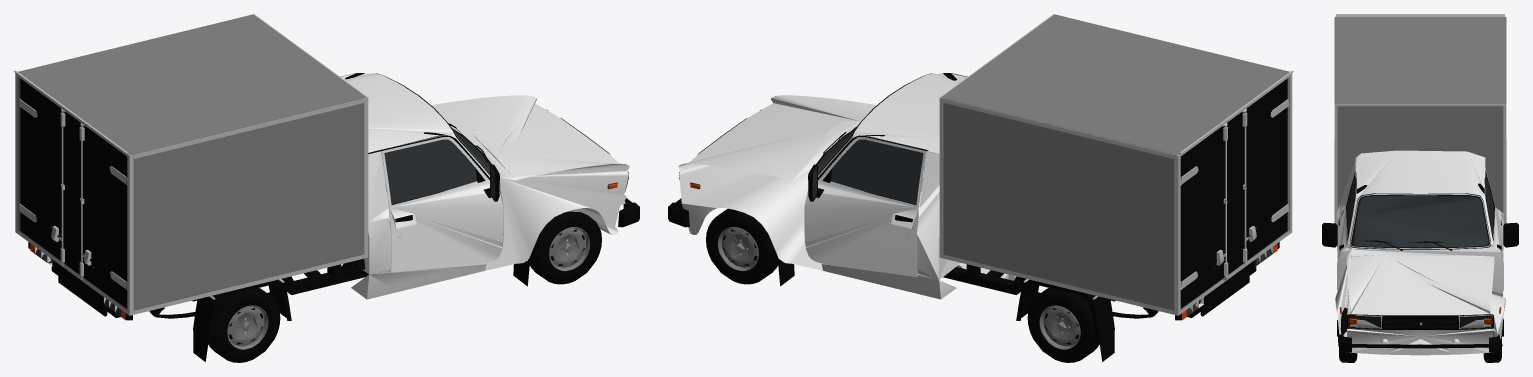
Rendered from vis2345.obj.
3 views of the same model, side by side, from view 1: azimuth 30°, elevation 25°; view 2: azimuth 150°, elevation 25°; view 3: azimuth 270°, elevation 25° (orthographic). The views are drawn at different scales.
Visible parts, largest first — view 1: vis2345_material, vis2345_2345paintPaint, vis2345_jigrubber, vis2345_jigchrome, vis2345_wheeltire, vis2345_winglassGlass, vis2345_wheelrim, vis2345_jigplastic, vis2345_jigmetalblack; view 2: vis2345_material, vis2345_2345paintPaint, vis2345_jigrubber, vis2345_jigchrome, vis2345_wheeltire, vis2345_winglassGlass, vis2345_wheelrim, vis2345_jigplastic, vis2345_jigmetalblack; view 3: vis2345_material, vis2345_2345paintPaint, vis2345_winglassGlass, vis2345_jigplastic, vis2345_jigchrome, vis2345_jigrubber, vis2345_hlplastic, vis2345_wheeltire, vis2345_hlchrome, vis2345_jigmetallic.
Part boxes in pixels (left/top/right/bottom): vis2345_material: left=17, top=14, right=366, bottom=313; vis2345_2345paintPaint: left=341, top=73, right=629, bottom=299; vis2345_jigrubber: left=20, top=73, right=529, bottom=361; vis2345_jigchrome: left=14, top=14, right=489, bottom=315; vis2345_wheeltire: left=208, top=211, right=601, bottom=362; vis2345_winglassGlass: left=384, top=131, right=490, bottom=204; vis2345_wheelrim: left=227, top=227, right=590, bottom=349; vis2345_jigplastic: left=193, top=118, right=639, bottom=340; vis2345_jigmetalblack: left=28, top=242, right=368, bottom=320; vis2345_material: left=941, top=14, right=1290, bottom=313; vis2345_2345paintPaint: left=678, top=73, right=966, bottom=299; vis2345_jigrubber: left=777, top=73, right=1287, bottom=361; vis2345_jigchrome: left=818, top=14, right=1293, bottom=315; vis2345_wheeltire: left=706, top=208, right=1099, bottom=362; vis2345_winglassGlass: left=817, top=131, right=923, bottom=204; vis2345_wheelrim: left=717, top=227, right=1080, bottom=349; vis2345_jigplastic: left=668, top=118, right=1114, bottom=340; vis2345_jigmetalblack: left=943, top=242, right=1279, bottom=320; vis2345_material: left=1334, top=17, right=1506, bottom=212; vis2345_2345paintPaint: left=1335, top=150, right=1505, bottom=355; vis2345_winglassGlass: left=1347, top=173, right=1493, bottom=247; vis2345_jigplastic: left=1322, top=171, right=1518, bottom=352; vis2345_jigchrome: left=1334, top=14, right=1506, bottom=325; vis2345_jigrubber: left=1337, top=173, right=1503, bottom=336; vis2345_hlplastic: left=1340, top=307, right=1500, bottom=329; vis2345_wheeltire: left=1339, top=307, right=1501, bottom=362; vis2345_hlchrome: left=1350, top=315, right=1490, bottom=328; vis2345_jigmetallic: left=1381, top=339, right=1459, bottom=352.
Bounding box in the file's own units: 4.4 × 1.95 × 1.91.
Materials: 18 (18 with a texture image).
